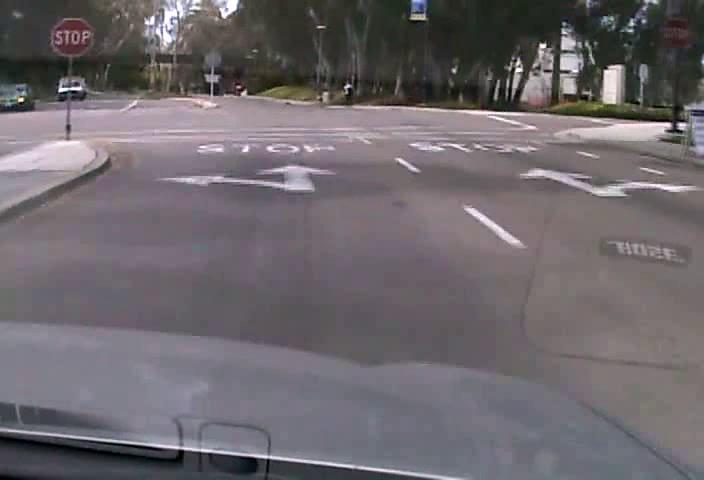stop: (51, 17, 94, 58)
